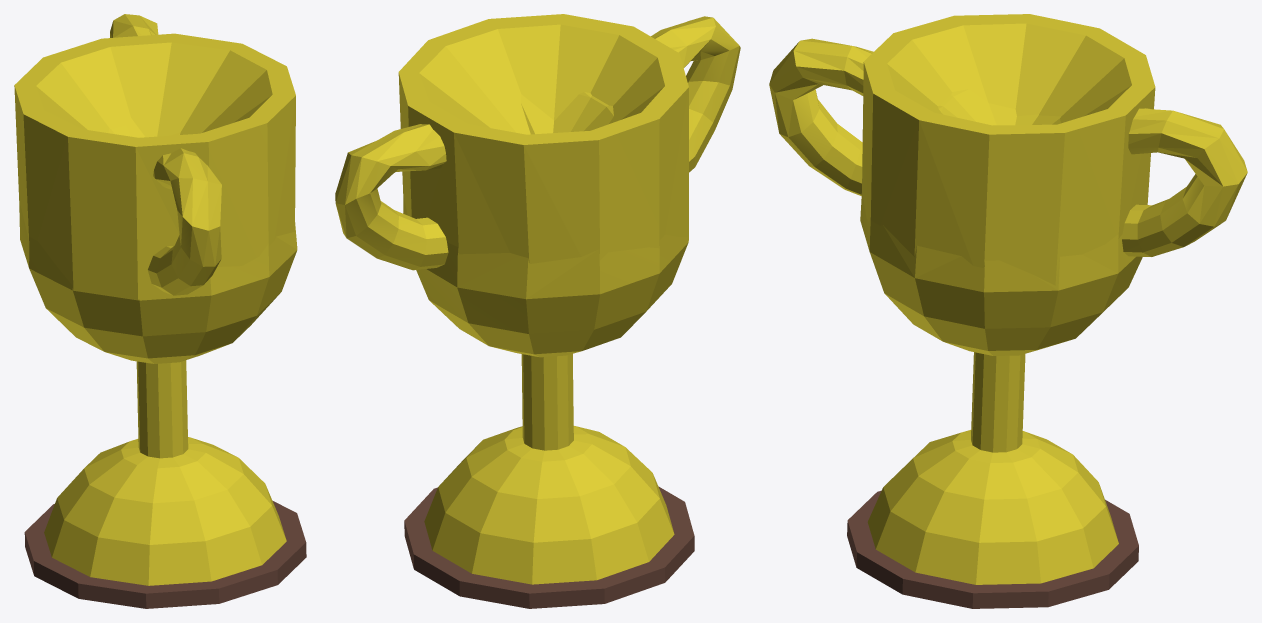
3 views of the same model, side by side, from view 1: azimuth 30°, elevation 25°; view 2: azimuth 150°, elevation 25°; view 3: azimuth 270°, elevation 25° (orthographic). The views are drawn at different scales.
Visible parts, largest first — view 1: node_MeshObject-753434624-PolyPaper21; view 2: node_MeshObject-753434624-PolyPaper21; view 3: node_MeshObject-753434624-PolyPaper21.
Boxes of the visible parts, x1,y1,x2,y2 form: node_MeshObject-753434624-PolyPaper21: (14,14,306,608); node_MeshObject-753434624-PolyPaper21: (335,14,740,608); node_MeshObject-753434624-PolyPaper21: (769,14,1247,608).
Bounding box in the file's own units: 0.2785 × 0.5024 × 0.4523.
